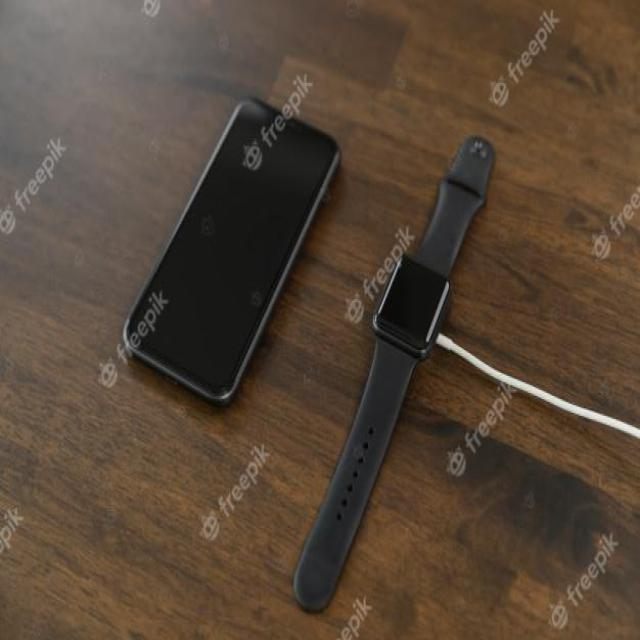smart phone: (84, 7, 345, 462)
watch: (348, 103, 514, 510)
